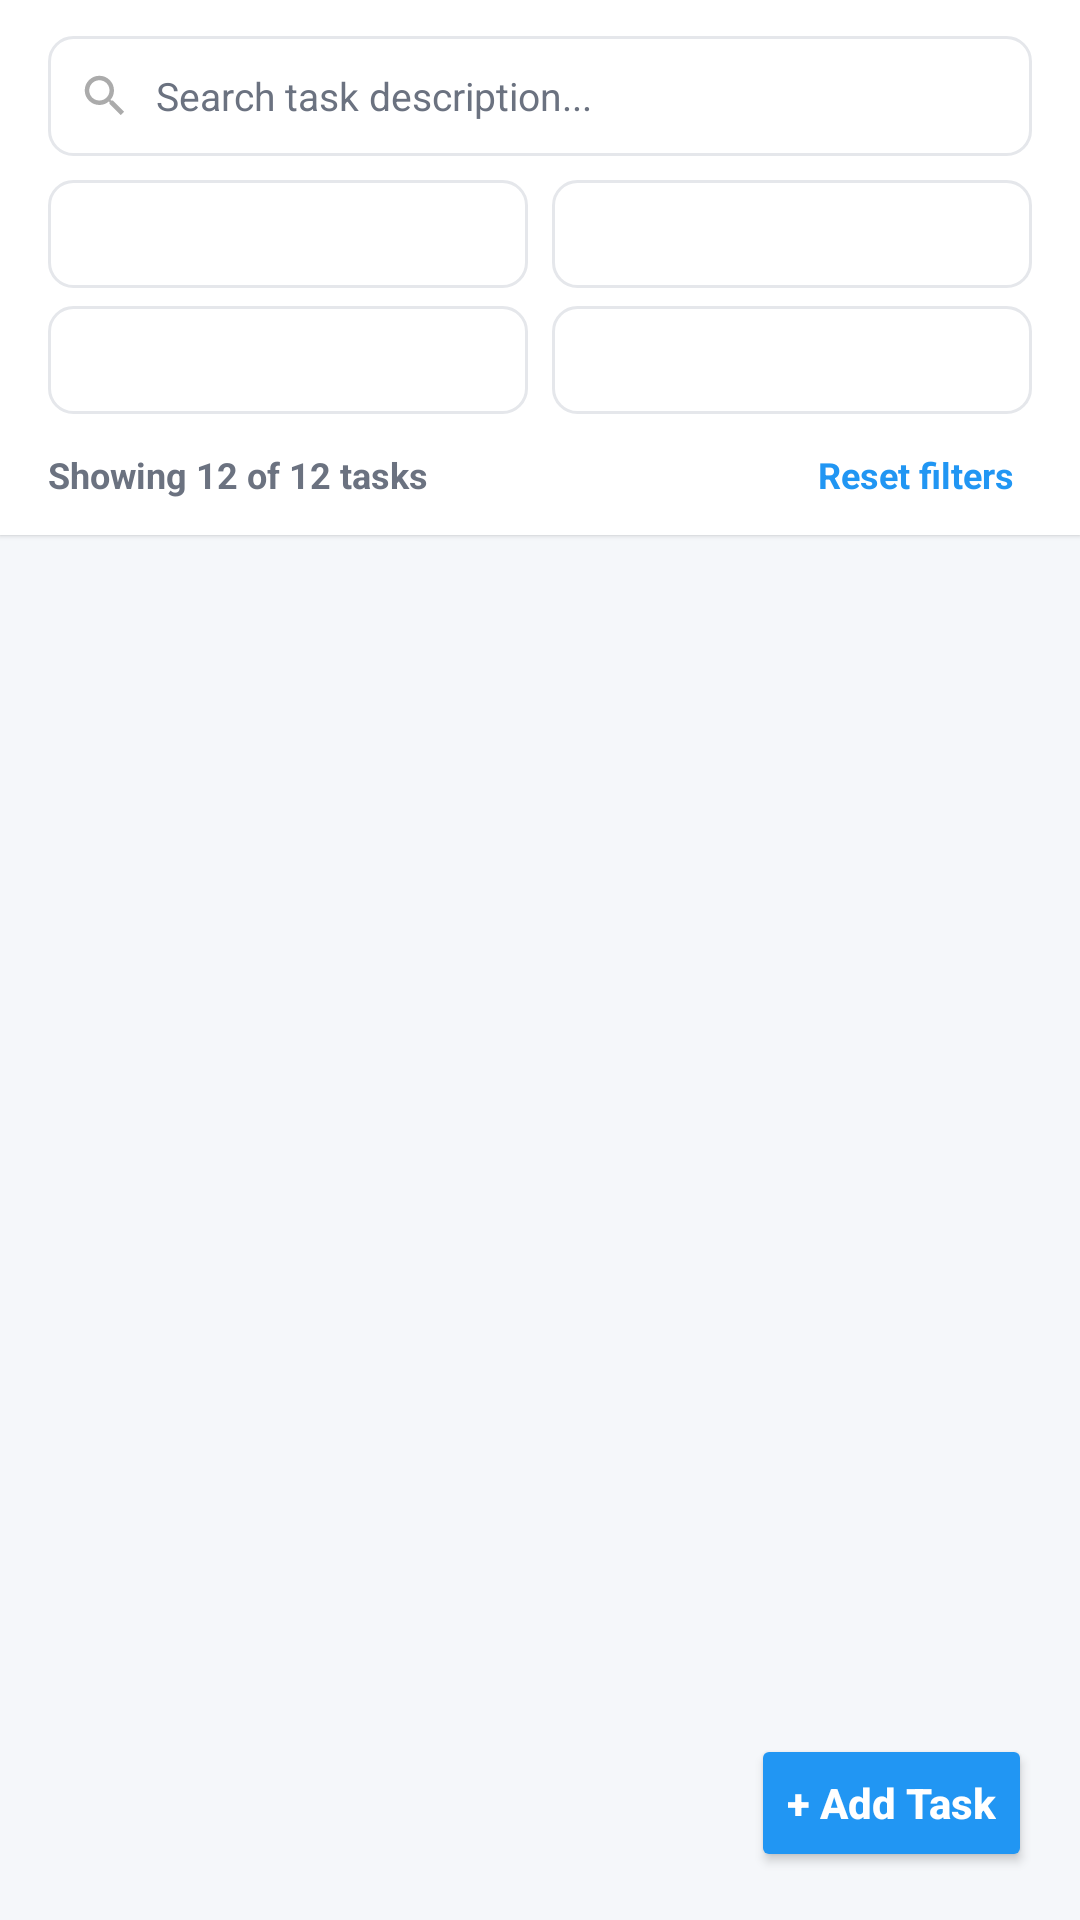

Icon bounding boxes for this 1080*1920 phone screenshot, format rect(x1, y1, x2, y2):
Search tasks: rect(85, 76, 124, 115)
